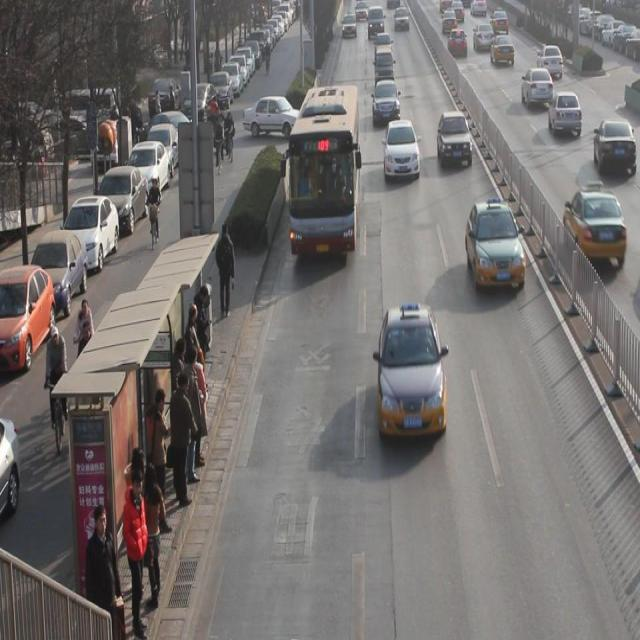car: (377, 304, 447, 438), (465, 199, 526, 292), (564, 181, 627, 265), (594, 118, 640, 177), (385, 119, 420, 180), (438, 112, 473, 169), (548, 91, 582, 138), (521, 66, 554, 108), (374, 78, 400, 125), (536, 43, 564, 78), (490, 31, 515, 65), (491, 2, 509, 34), (473, 23, 494, 49), (449, 28, 468, 56), (394, 1, 410, 31), (442, 1, 457, 32), (375, 32, 392, 55), (342, 12, 357, 38)
truck: (375, 47, 395, 83), (368, 1, 384, 40)
van: (288, 84, 358, 257)
